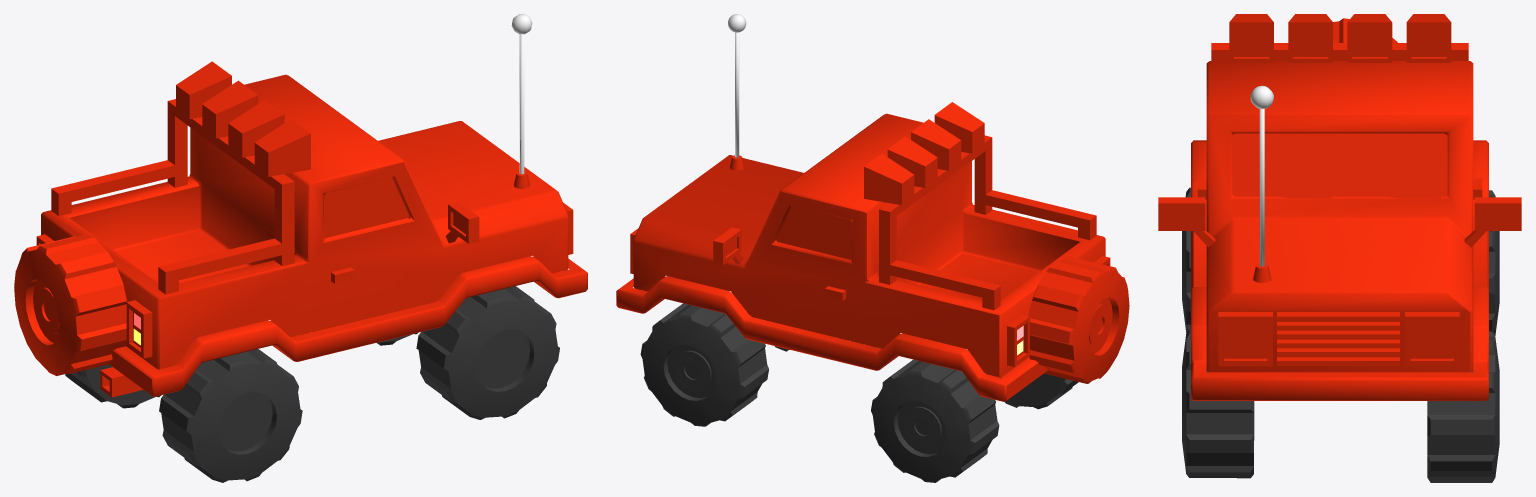
The model's file is bruno-simon-truck.gltf.
3 views of the same model, side by side, from view 1: azimuth 30°, elevation 25°; view 2: azimuth 150°, elevation 25°; view 3: azimuth 270°, elevation 25° (orthographic). The views are drawn at different scales.
Parts seen in each view (by area): view 1: shadeRed_002, shadeBlack_001 (×3), shadeBlack_022, shadeBlack_019, shadeBlack_009, shadeWhite001, shadeBlack_015, shadeBlack_013, shadeBlack_014, shadeBlack_010, shadeBlack_021, shadeBlack_023 (+3 smaller); view 2: shadeRed_002, shadeBlack_001 (×3), shadeBlack_022, shadeBlack_019, shadeBlack_009, shadeWhite001, shadeWhite_006 (×2), shadeBlack_010, shadeBlack_014, shadeBlack_013, shadeBlack_015, shadeBlack_020 (+3 smaller); view 3: shadeRed_002, shadeBlack_001 (×4), shadeBlack_022, shadeWhite001, shadeBlack_008, shadeBlack_002, shadeBlack_007, shadeBlack_011, shadeBlack_023, shadeBlack_013, shadeBlack_010, shadeBlack_015 (+12 smaller).
Part boxes in pixels (x1,y1,x2,y2): shadeRed_002: (41,74,568,369); shadeBlack_001 (×3): (65,286,559,482); shadeBlack_022: (108,256,587,396); shadeBlack_019: (14,234,127,375); shadeBlack_009: (51,99,294,294); shadeWhite001: (324,177,409,238); shadeBlack_015: (254,119,310,176); shadeBlack_013: (202,80,258,138); shadeBlack_014: (228,100,284,157); shadeBlack_010: (176,61,231,118); shadeBlack_021: (126,300,152,358); shadeBlack_023: (445,201,479,243); shadeRed_002: (633,113,1105,377); shadeBlack_001 (×3): (640,303,1078,482); shadeBlack_022: (616,276,1047,401); shadeBlack_019: (1028,256,1129,383); shadeBlack_009: (879,135,1096,310); shadeWhite001: (776,205,852,259); shadeWhite_006 (×2): (673,350,941,446); shadeBlack_010: (864,153,914,205); shadeBlack_014: (911,119,961,170); shadeBlack_013: (887,136,937,187); shadeBlack_015: (934,102,984,153); shadeBlack_020: (1007,315,1029,366); shadeRed_002: (1206,61,1473,372); shadeBlack_001 (×4): (1182,187,1499,482); shadeBlack_022: (1191,140,1488,400); shadeWhite001: (1232,133,1447,196); shadeBlack_008: (1277,312,1399,365); shadeBlack_002: (1405,312,1459,366); shadeBlack_007: (1218,312,1272,366); shadeBlack_011: (1464,197,1521,247); shadeBlack_023: (1158,197,1215,247); shadeBlack_013: (1347,14,1392,62); shadeBlack_010: (1406,14,1451,62); shadeBlack_015: (1229,14,1273,62).
Size of the model in its own units: 2.03 by 1.5 by 1.18.
